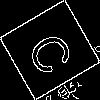C: (25, 24, 83, 79)
